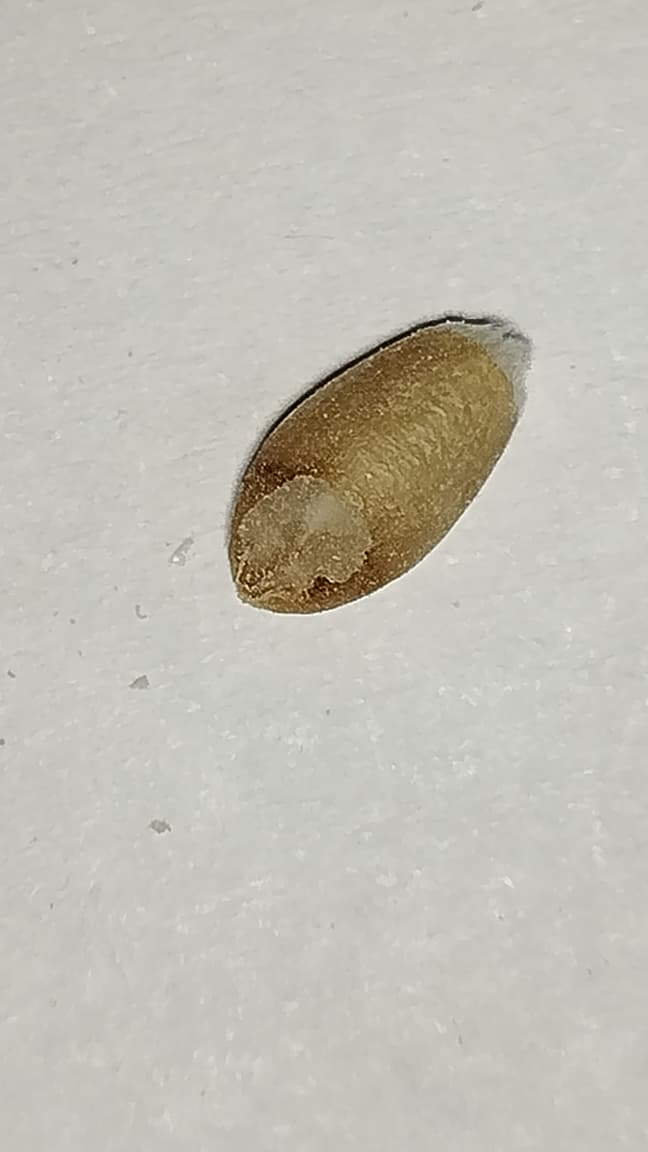damage: (224, 313, 529, 637)
insectdamage: (241, 471, 370, 601)
molddamage: (435, 315, 532, 408)
staindamage: (223, 459, 390, 627), (264, 461, 318, 491)
